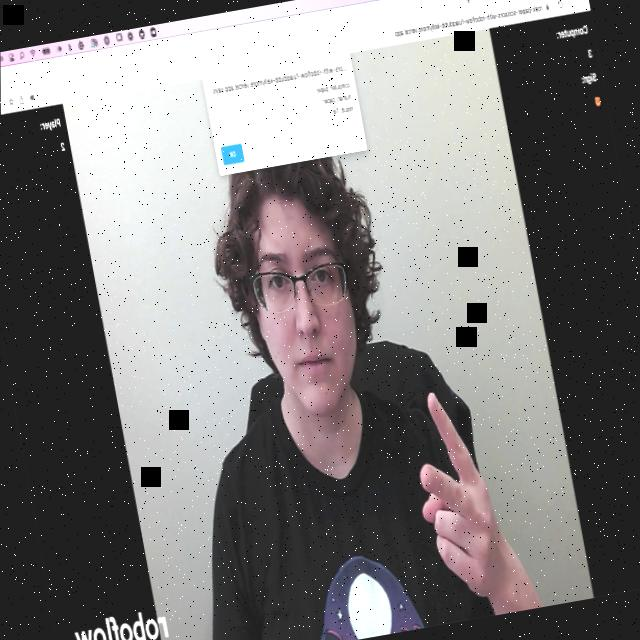Paper: (393, 364, 529, 620)
